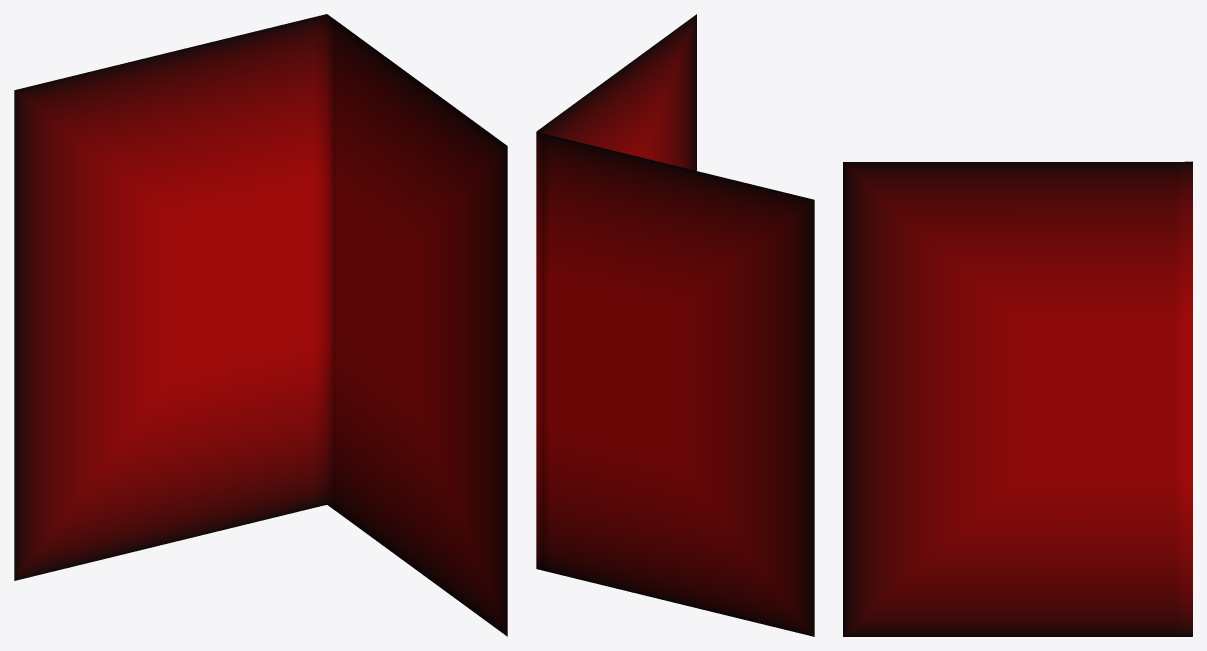
Rendered from Decal_corner_1m_half.fbx.
3 renders of one model, left to right at view 1: azimuth 30°, elevation 25°; view 2: azimuth 150°, elevation 25°; view 3: azimuth 270°, elevation 25°, orthographic. The views are drawn at different scales.
Parts seen in each view (by area): view 1: Decal_corner_1m_half; view 2: Decal_corner_1m_half; view 3: Decal_corner_1m_half.
Part boxes in pixels (x1,y1,x2,y2): Decal_corner_1m_half: (14,14,507,636); Decal_corner_1m_half: (536,14,814,636); Decal_corner_1m_half: (843,161,1192,636).
Bounding box in the file's own units: 1 × 1.5 × 1.
